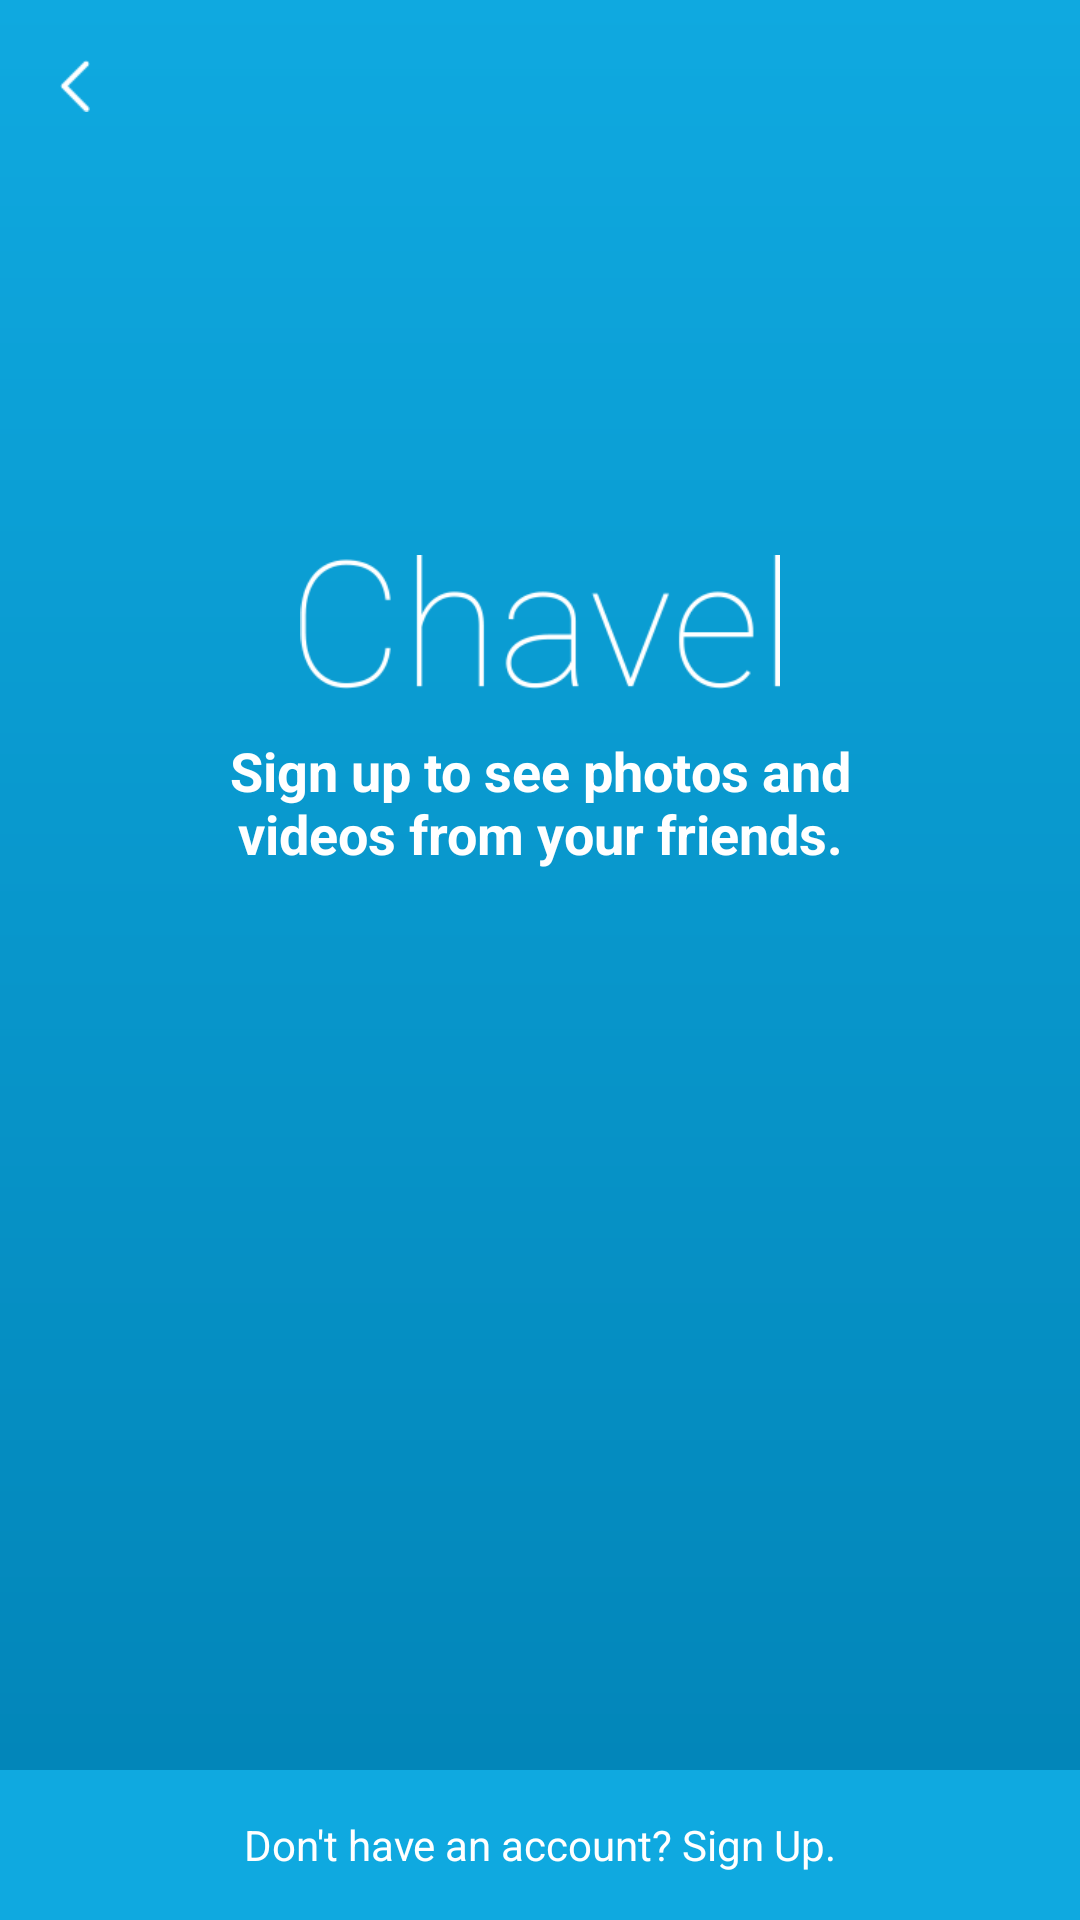

Locate icon controls on the screen. Image size 1080*1920, boxes as (x1, y1, x2, y2).
back: (60, 60, 90, 112)
